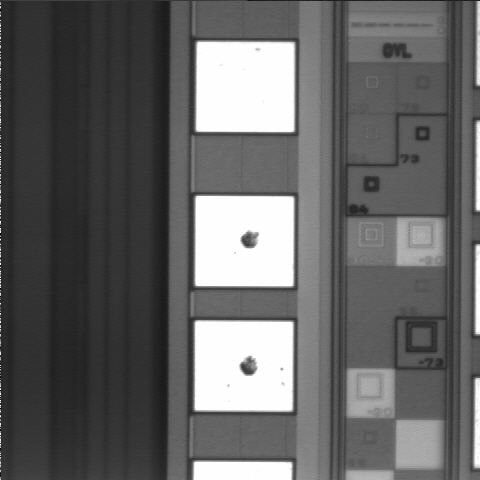pad: (196, 42, 295, 132), (195, 196, 294, 286), (195, 321, 293, 411)
